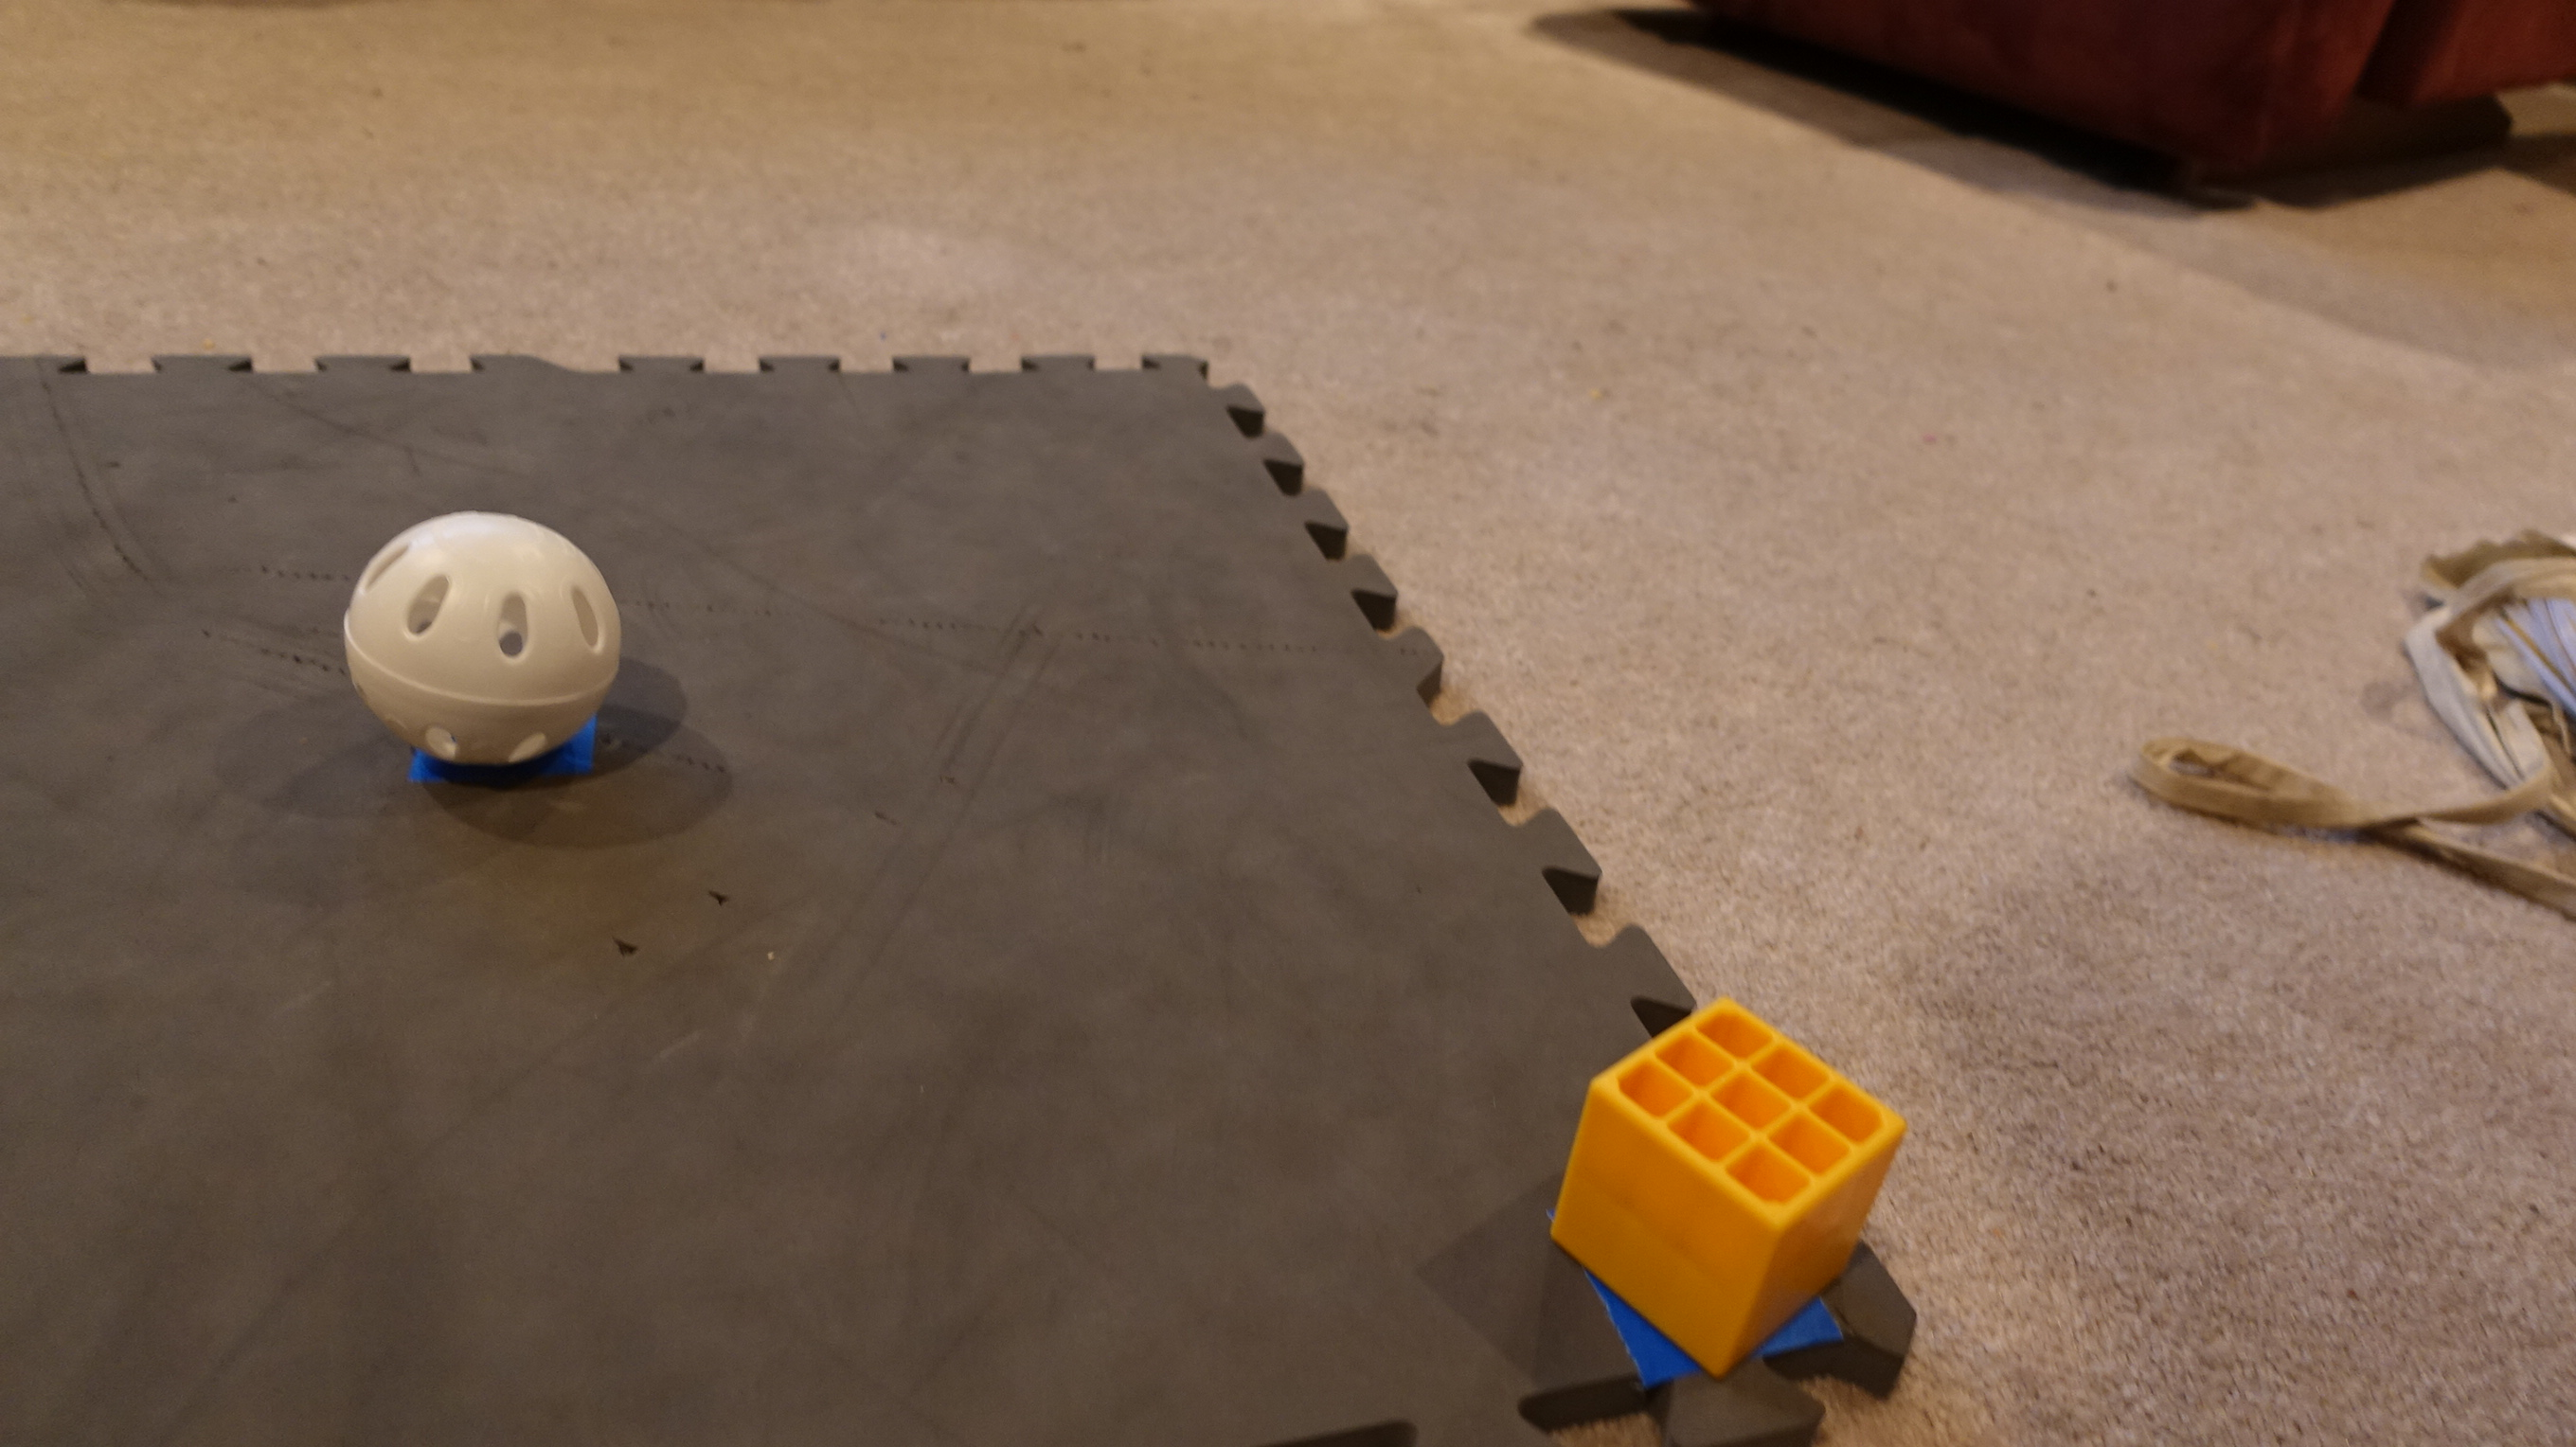gold: (1552, 976, 1907, 1378)
silver: (336, 509, 623, 775)
